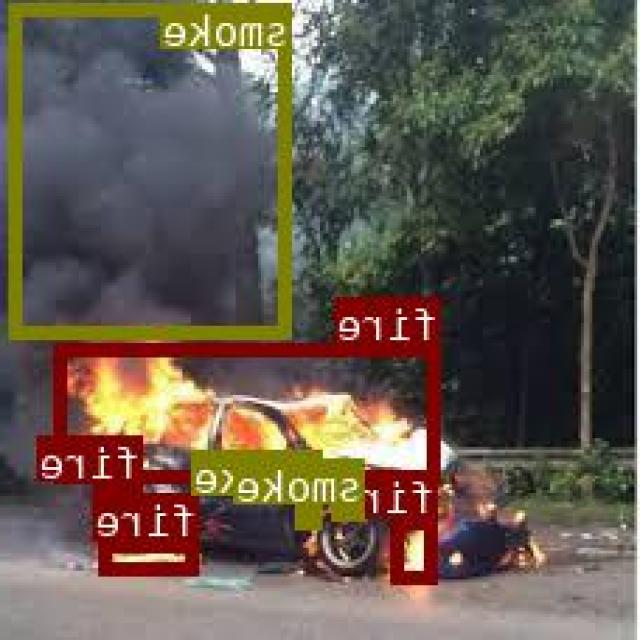fire: (57, 343, 443, 479), (103, 539, 202, 573), (96, 480, 144, 538), (396, 515, 438, 580)
smoke: (12, 2, 294, 336), (298, 496, 323, 526), (336, 503, 367, 518)
